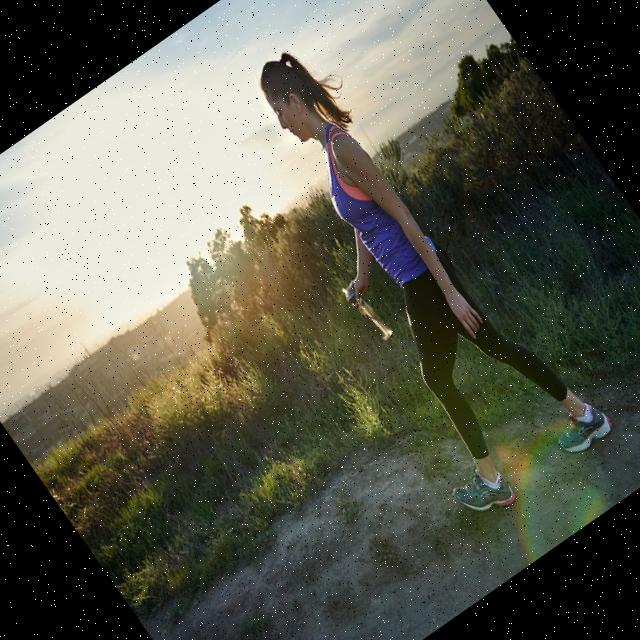Person: (188, 16, 620, 528)
